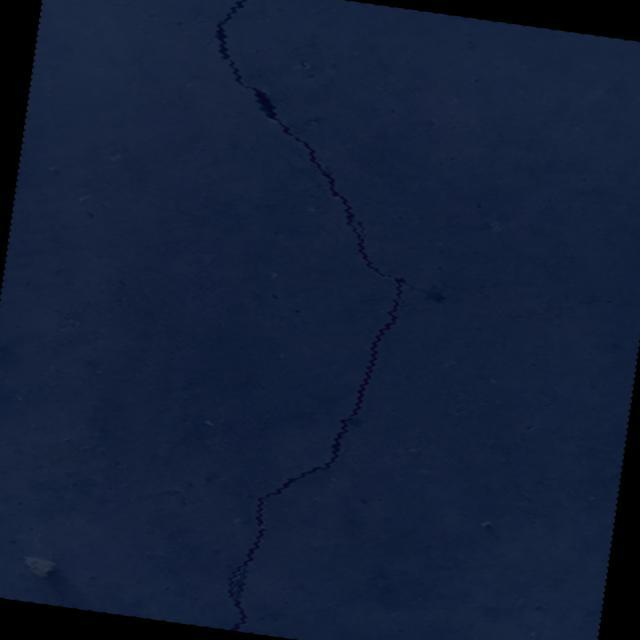crack: (81, 0, 540, 640), (493, 284, 640, 335), (42, 0, 165, 18)
